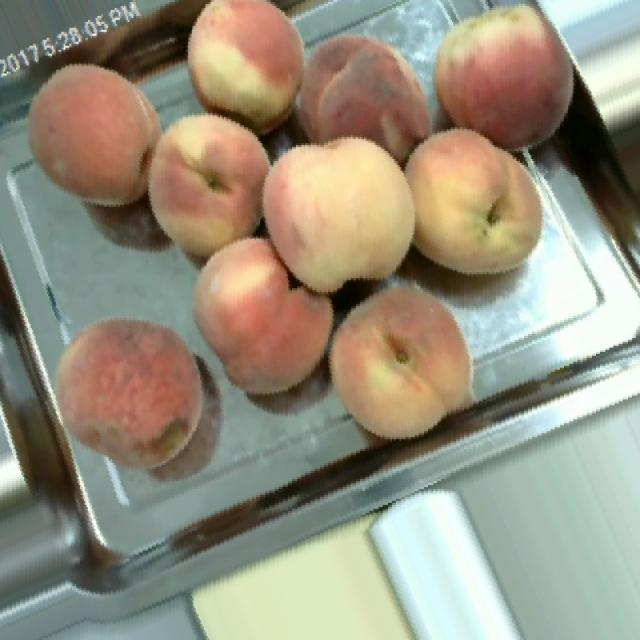Fruit: (28, 290, 236, 499), (301, 264, 504, 467), (164, 220, 357, 420), (393, 103, 576, 304), (3, 39, 189, 232), (253, 111, 423, 314), (117, 88, 276, 288), (422, 0, 578, 179), (162, 0, 326, 155)
